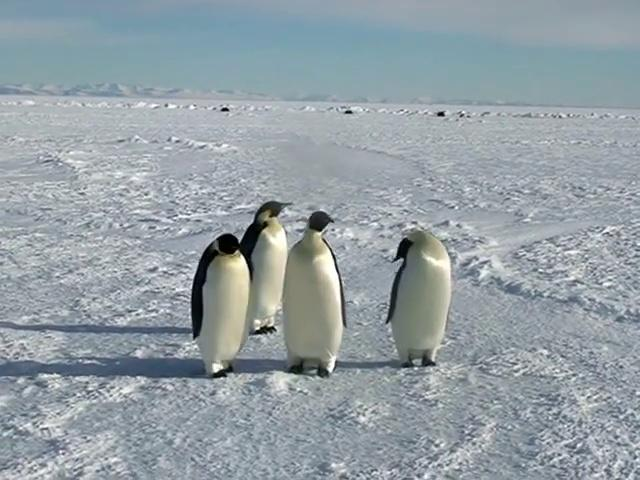animal: (386, 230, 450, 366)
